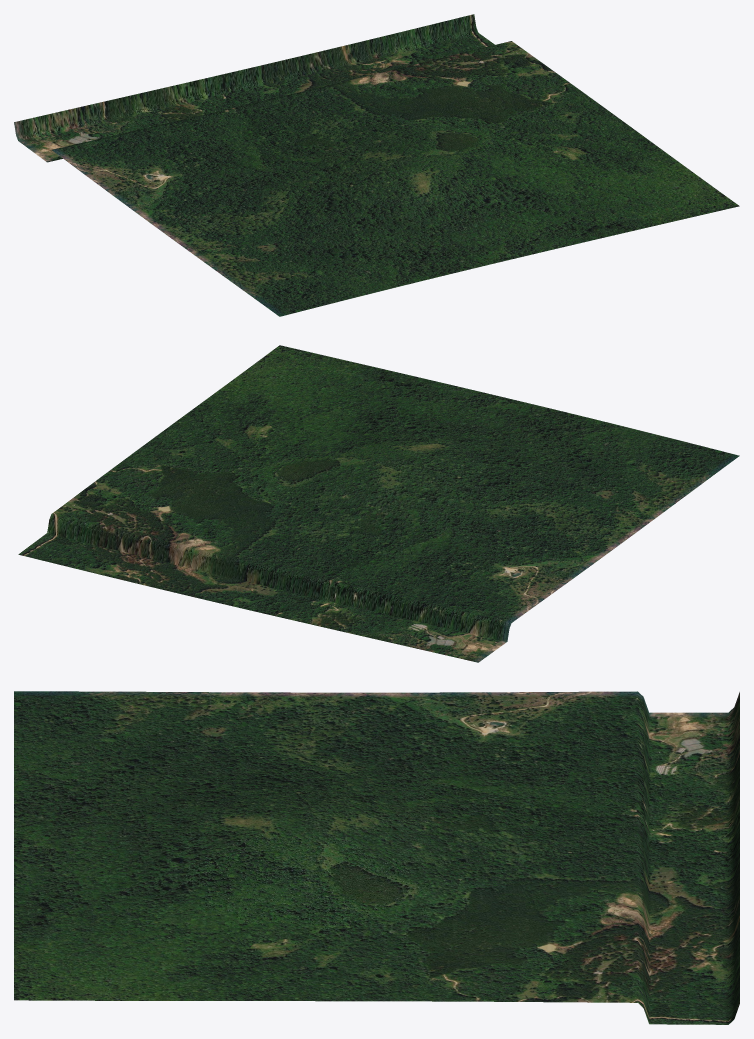
Rendered from terrain_real_T_W03_S02.glb.
The picture shows the model from 3 angles, top to bottom: view 1: azimuth 30°, elevation 25°; view 2: azimuth 150°, elevation 25°; view 3: azimuth 270°, elevation 25°; orthographic projection. The views are drawn at different scales.
Visible parts, largest first — view 1: Terrain_Real_DEM_T_W03_S02; view 2: Terrain_Real_DEM_T_W03_S02; view 3: Terrain_Real_DEM_T_W03_S02.
Boxes of the visible parts, box(x1,y1,x2,y2) form: Terrain_Real_DEM_T_W03_S02: box(14, 14, 739, 316); Terrain_Real_DEM_T_W03_S02: box(18, 345, 739, 662); Terrain_Real_DEM_T_W03_S02: box(14, 691, 739, 1024).
Bounding box in the file's own units: 2000 × 156 × 2000.
1 material, 1 textured.
